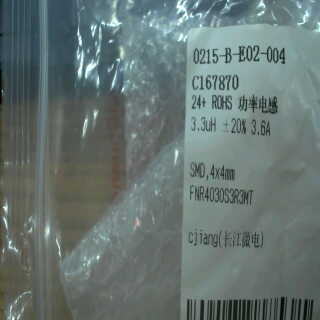3.3uH: (188, 112, 219, 141)
